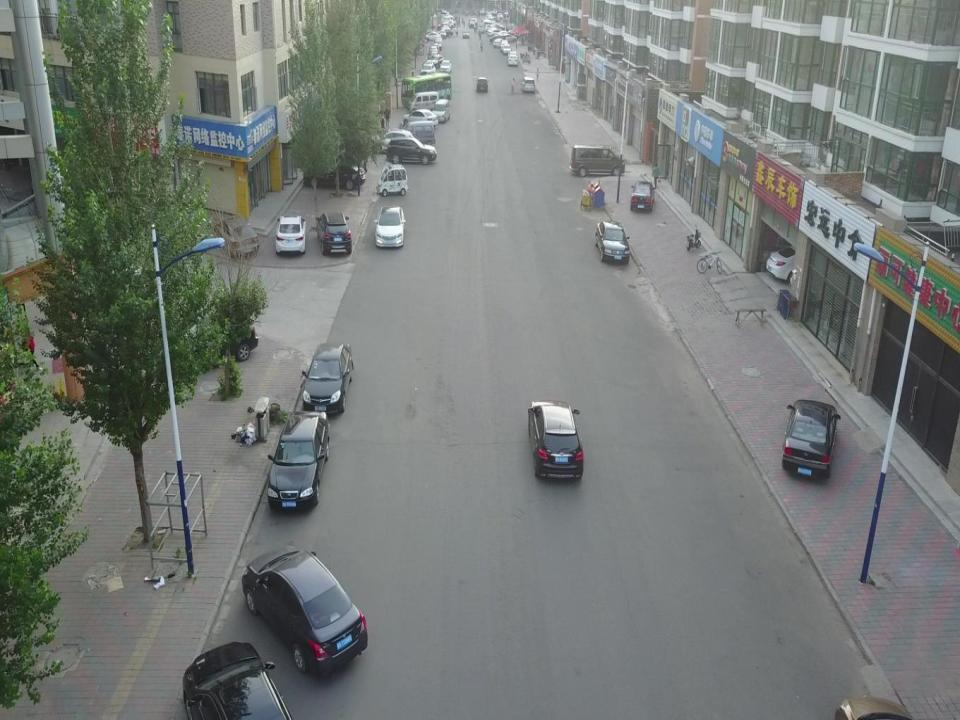bus: (400, 72, 456, 102)
car: (237, 545, 373, 678), (172, 636, 296, 720), (266, 408, 329, 511), (153, 303, 260, 360), (778, 395, 843, 479), (526, 399, 584, 483), (299, 341, 355, 413), (767, 242, 830, 284), (300, 153, 368, 191), (213, 213, 260, 257), (315, 207, 353, 253), (569, 145, 626, 173), (386, 138, 439, 168), (596, 219, 632, 263), (375, 204, 406, 248), (274, 212, 307, 253), (371, 130, 413, 155), (630, 183, 656, 209), (403, 108, 436, 128), (522, 74, 535, 93), (492, 31, 517, 40), (474, 78, 490, 92), (424, 29, 442, 41), (420, 62, 436, 74), (428, 54, 444, 66), (490, 33, 511, 41), (507, 49, 518, 64), (440, 60, 452, 72), (440, 25, 453, 36), (487, 28, 509, 34), (499, 38, 508, 50), (494, 38, 506, 47), (428, 49, 438, 59), (428, 41, 438, 51), (430, 41, 438, 53), (462, 28, 470, 39), (503, 44, 511, 55)
van: (402, 117, 435, 146), (409, 91, 440, 112), (432, 97, 454, 120)
